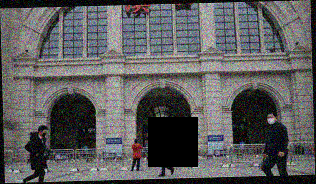with_mask: (267, 114, 278, 125), (41, 129, 49, 138)
